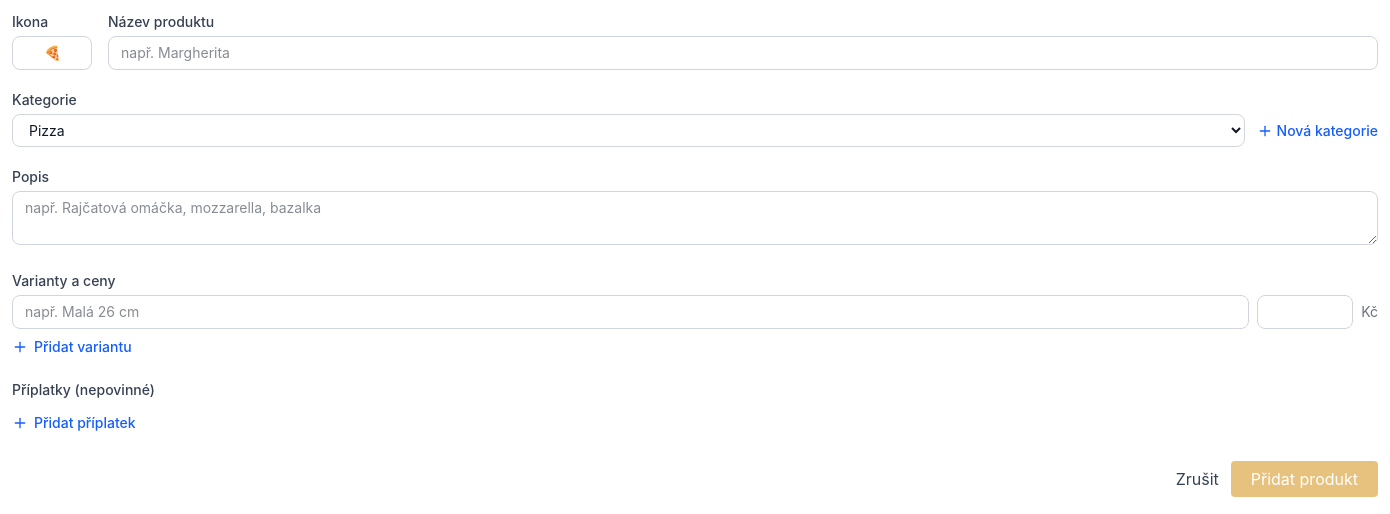
Test case: ProductForm price input › lets you type a price straight away without a stray leading zero
Click the number field at (1305, 312), box [1257,295,1353,329]
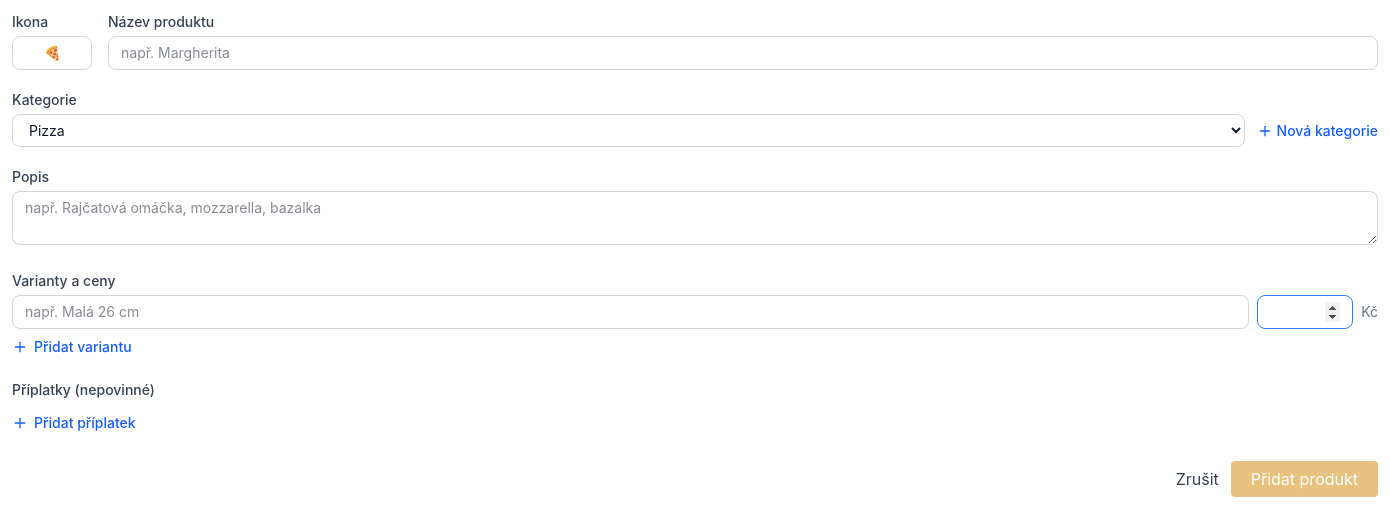
Type keys "150"
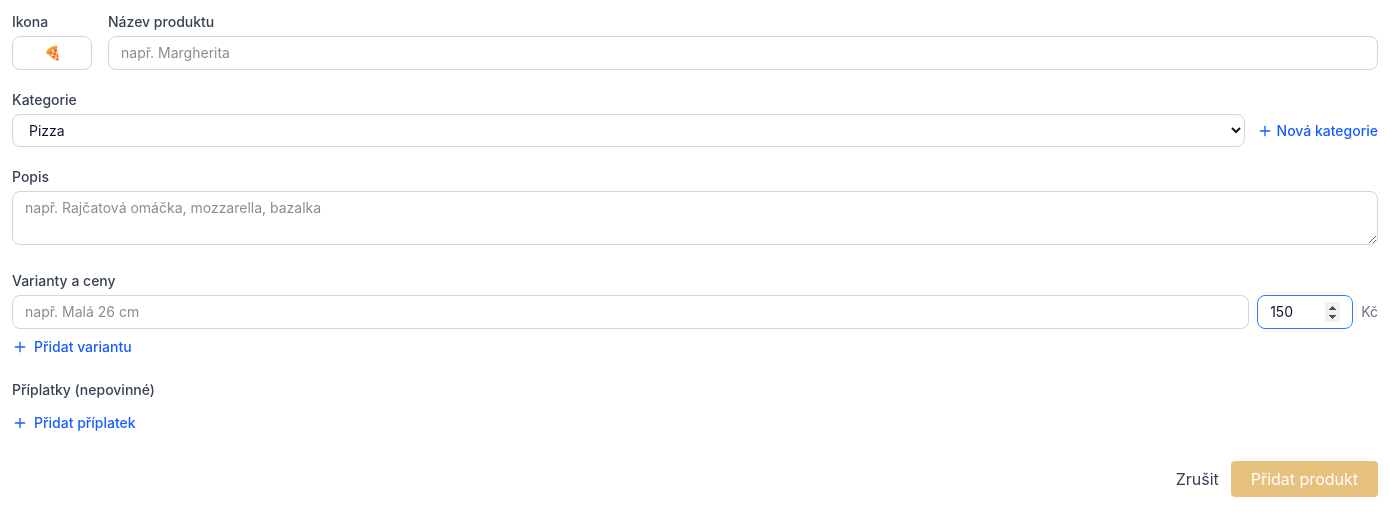
Check: the number field holds "150", box [1257,295,1353,329]
